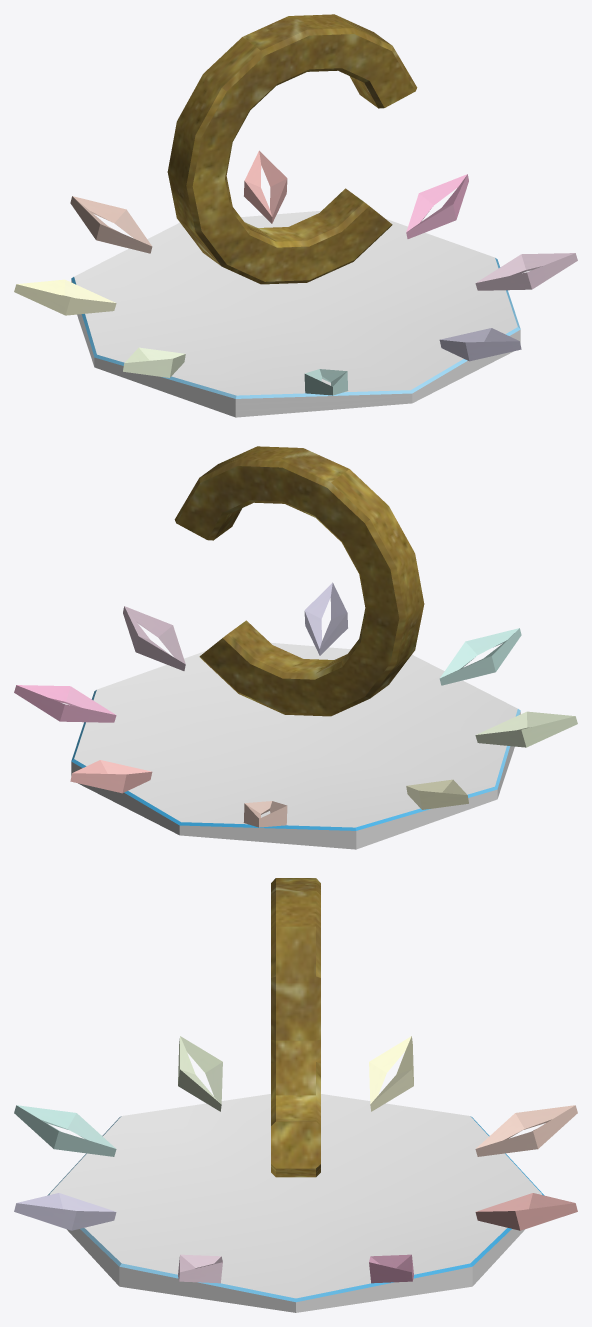
The model's file is SM_Button_03.fbx.
3 views of the same model, one above another, from view 1: azimuth 30°, elevation 25°; view 2: azimuth 150°, elevation 25°; view 3: azimuth 270°, elevation 25° (orthographic). The views are drawn at different scales.
Visible parts, largest first — view 1: SM_Button_03; view 2: SM_Button_03; view 3: SM_Button_03.
Part boxes in pixels (x1,y1,x2,y2): SM_Button_03: (14, 14, 577, 417); SM_Button_03: (14, 446, 577, 849); SM_Button_03: (14, 878, 577, 1312).
Bounding box in the file's own units: 22.58 × 15.19 × 22.58.
